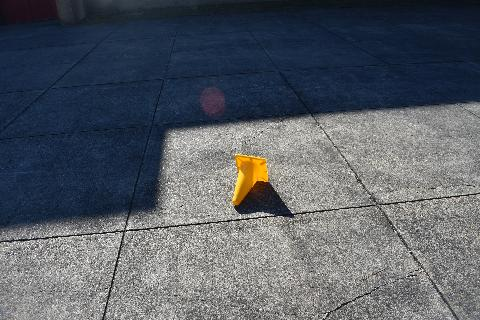cone: (232, 154, 270, 206)
